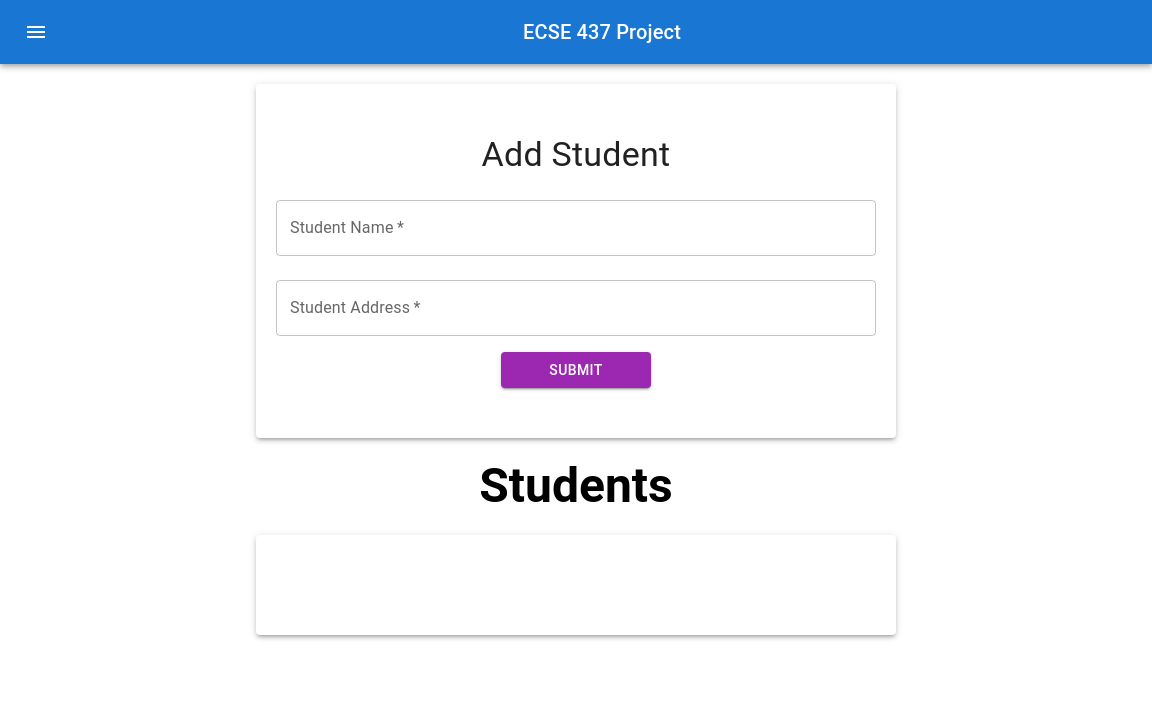
Test case: App Tests › Name textfield returns an error when empty
This screenshot has width=1152, height=706.
Click the button "Submit". click: coordinates (576, 370)
box: x1=501 y1=352 x2=651 y2=388
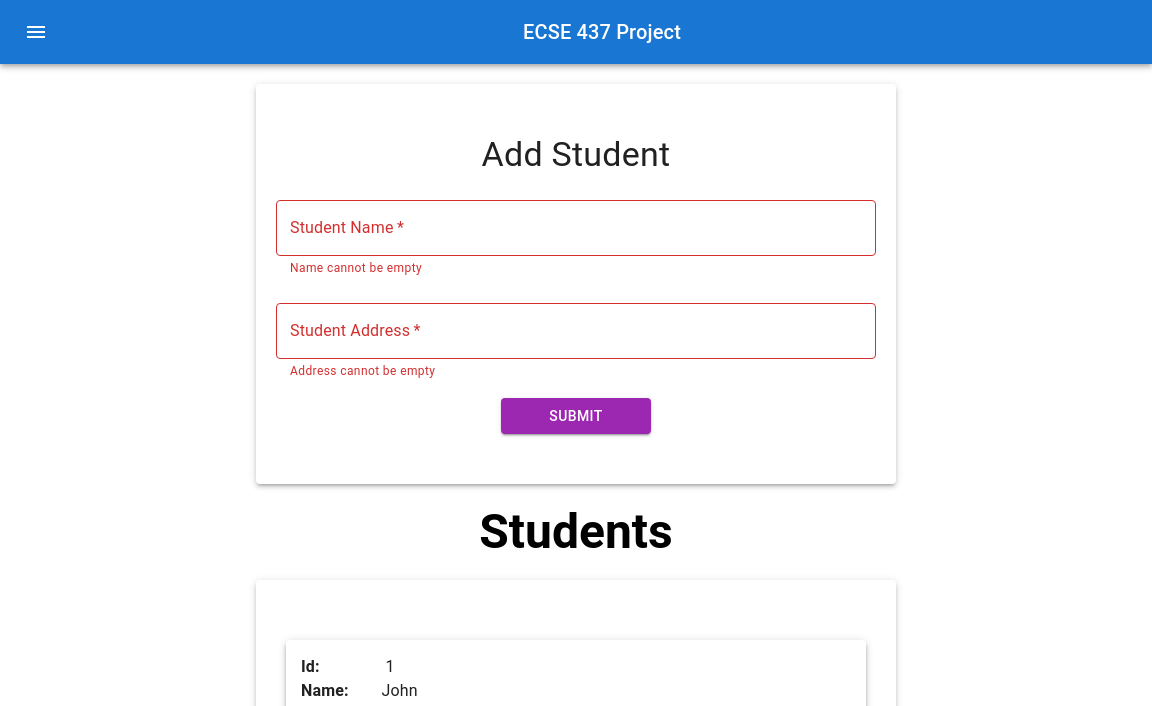
Check: the text "Name cannot be empty" is shown, box x1=290 y1=261 x2=422 y2=275
